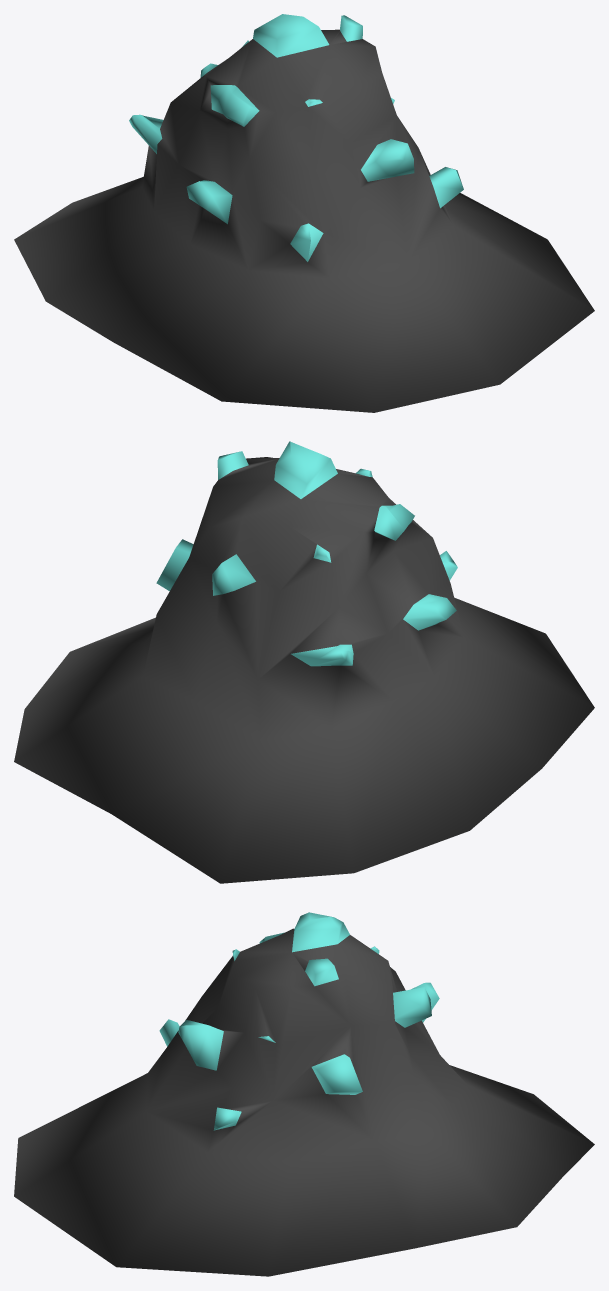
File: Ore1.fbx
The picture shows the model from 3 angles, top to bottom: view 1: azimuth 30°, elevation 25°; view 2: azimuth 150°, elevation 25°; view 3: azimuth 270°, elevation 25°; orthographic projection. The views are drawn at different scales.
Visible parts, largest first — view 1: Cube; view 2: Cube; view 3: Cube.
Part boxes in pixels (bbox=[...]): Cube: bbox=[14, 14, 594, 412]; Cube: bbox=[14, 441, 594, 883]; Cube: bbox=[14, 912, 594, 1276].
Bounding box in the file's own units: 702 × 583 × 352.
